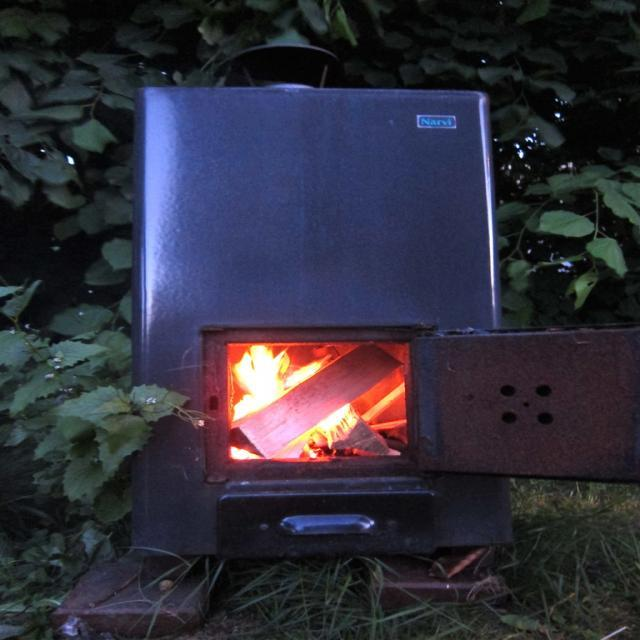Fire: (229, 344, 403, 465)
